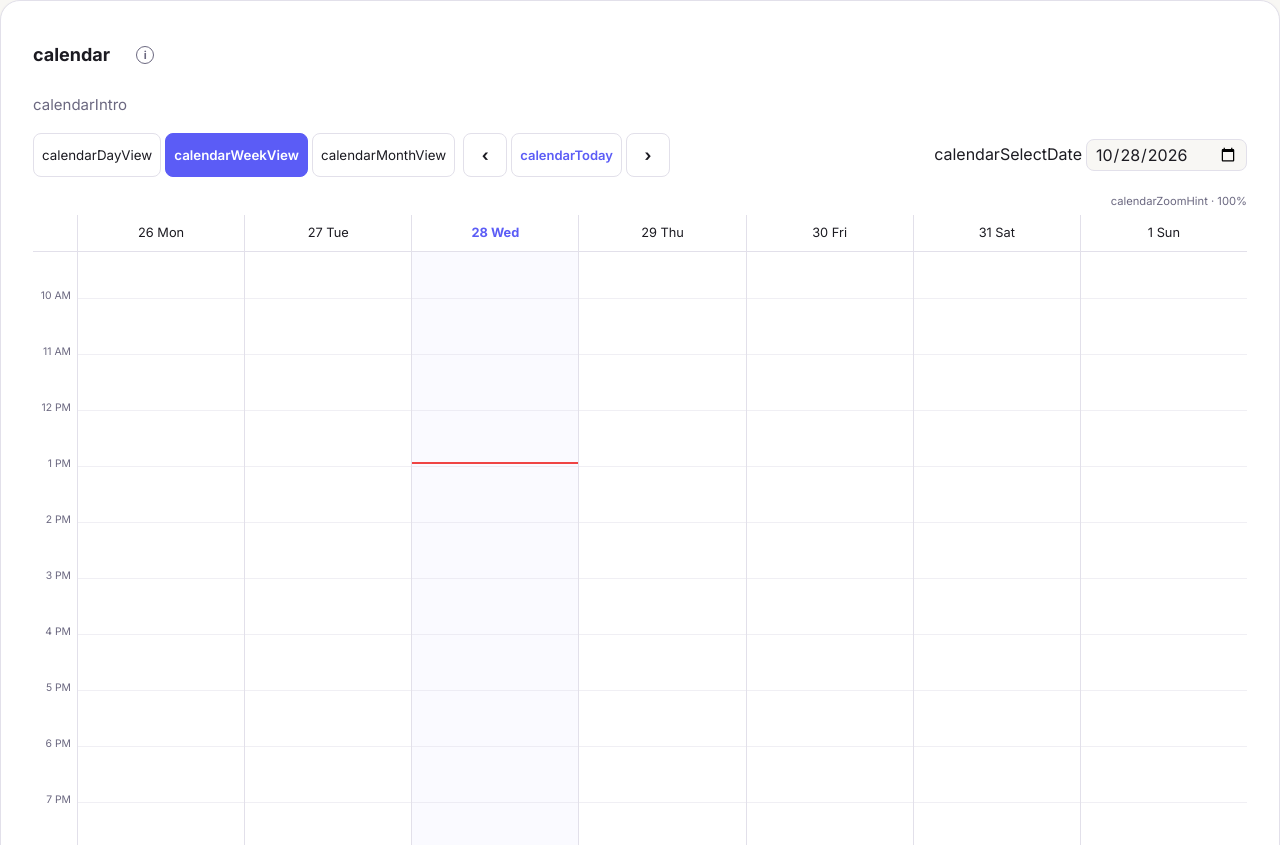
Test: CalendarView › shows the selected day in day view
(page scrolled)
Click the button "calendarDayView" at (97, 155), box [33,133,161,177]
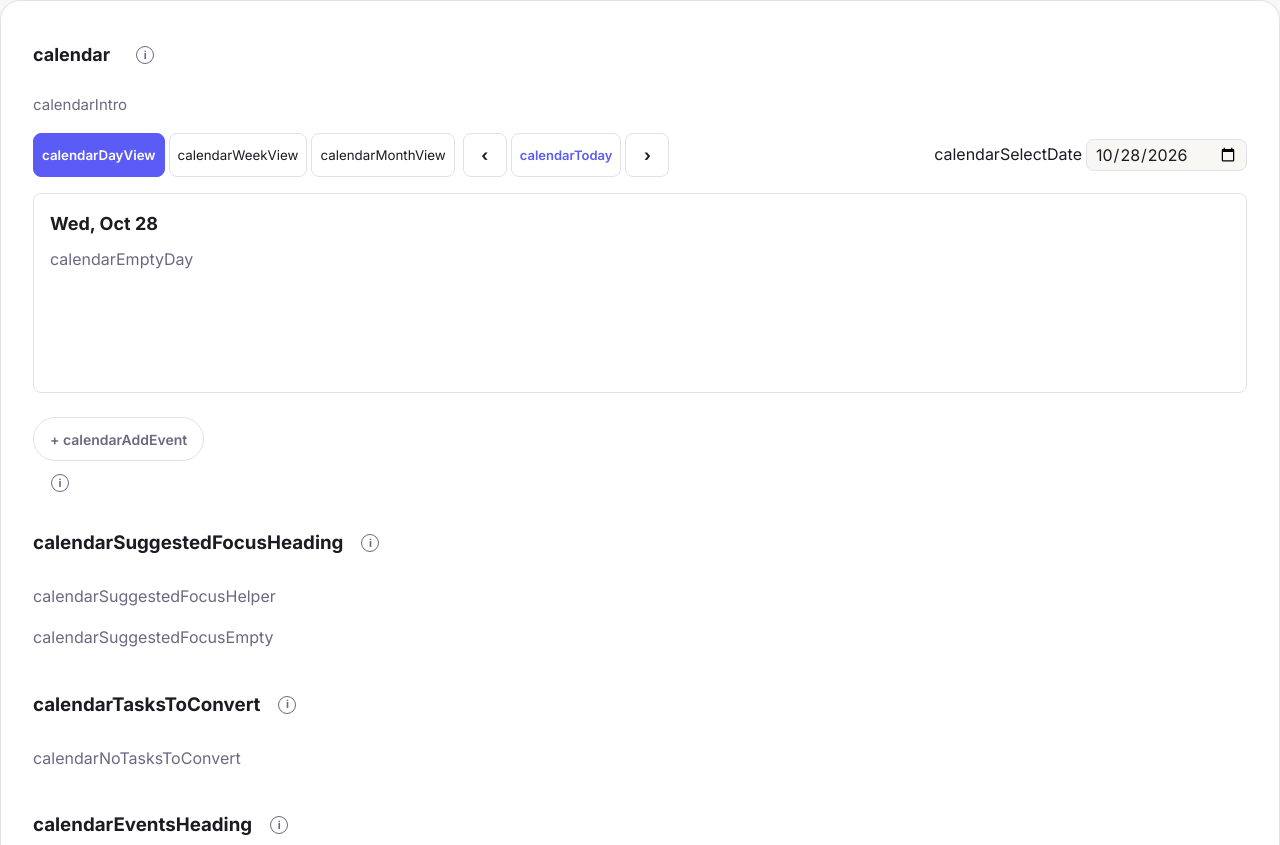
Type "2026-03-10" into the date field labelled "calendarSelectDate" at (1166, 155), box [1086,139,1247,171]
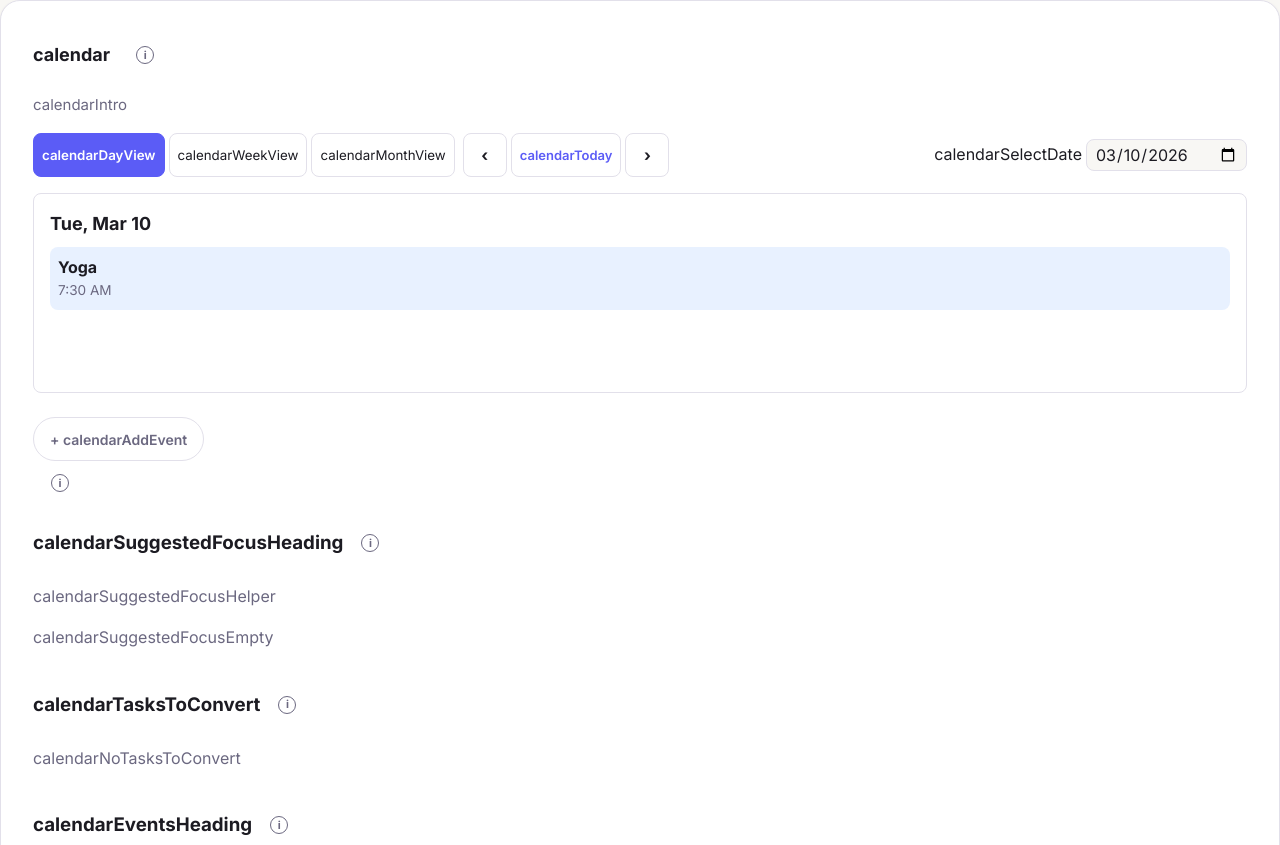
Type "2026-03-12" into the date field labelled "calendarSelectDate" at (1166, 155), box [1086,139,1247,171]
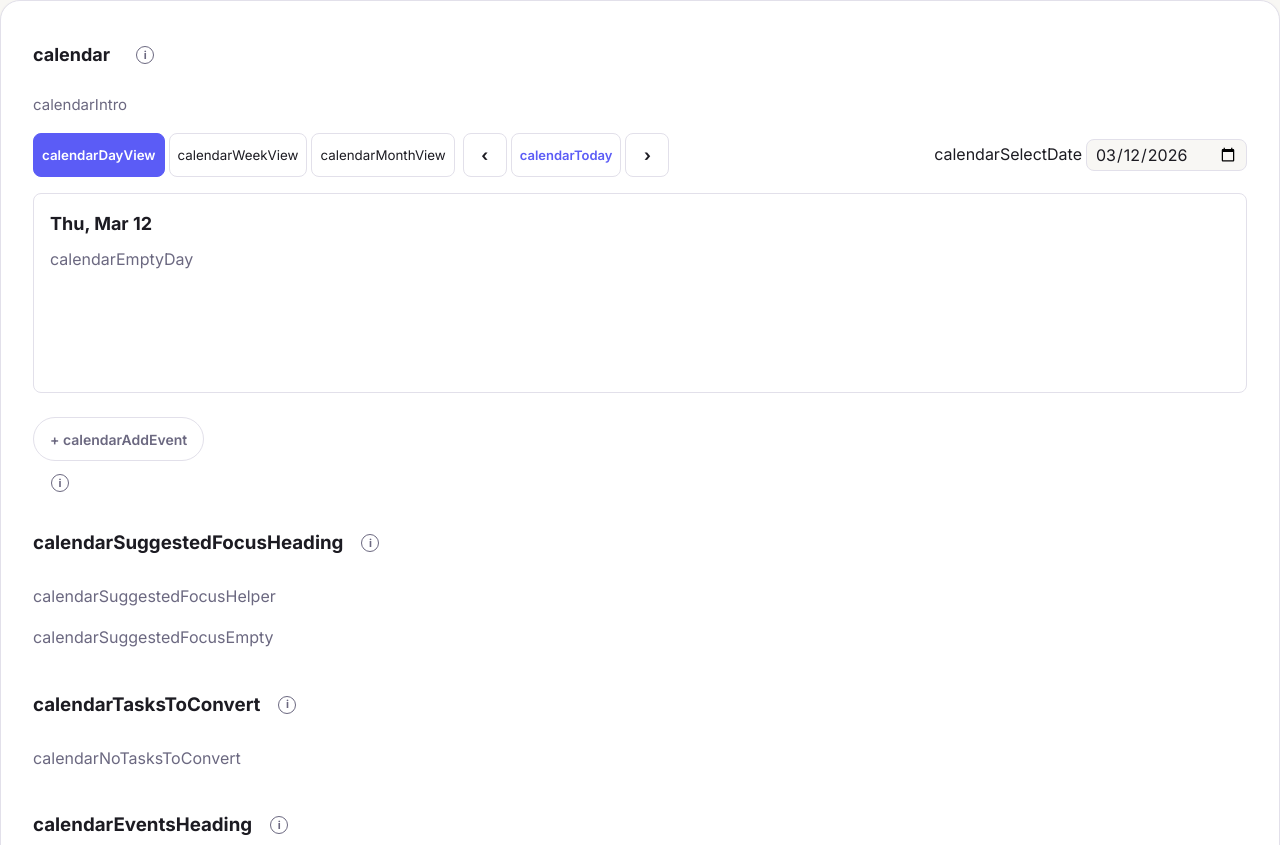
Expected: the text "calendarEmptyDay" is shown, [50,249,193,269]
